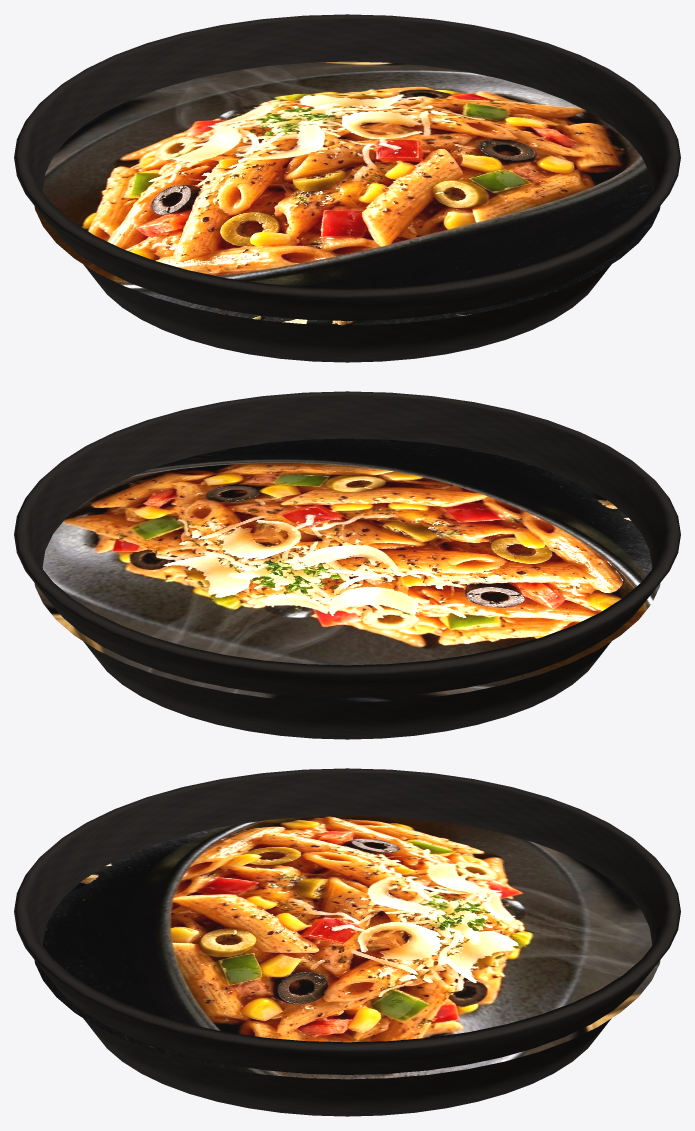
The model's file is pasta-mix-sauce.glb.
3 renders of one model, top to bottom at view 1: azimuth 30°, elevation 25°; view 2: azimuth 150°, elevation 25°; view 3: azimuth 270°, elevation 25°, orthographic.
Visible parts, largest first — view 1: FoodMound, StonewareVessel; view 2: FoodMound, StonewareVessel; view 3: FoodMound, StonewareVessel.
Part boxes in pixels (x1,y1,x2,y2): FoodMound: (34, 61, 660, 325); StonewareVessel: (14, 14, 680, 362); FoodMound: (34, 438, 660, 702); StonewareVessel: (14, 391, 680, 739); FoodMound: (34, 815, 660, 1079); StonewareVessel: (14, 768, 680, 1116).
Size of the model in its own units: 0.22 by 0.0365 by 0.22.
Materials: 2 (2 with a texture image).
